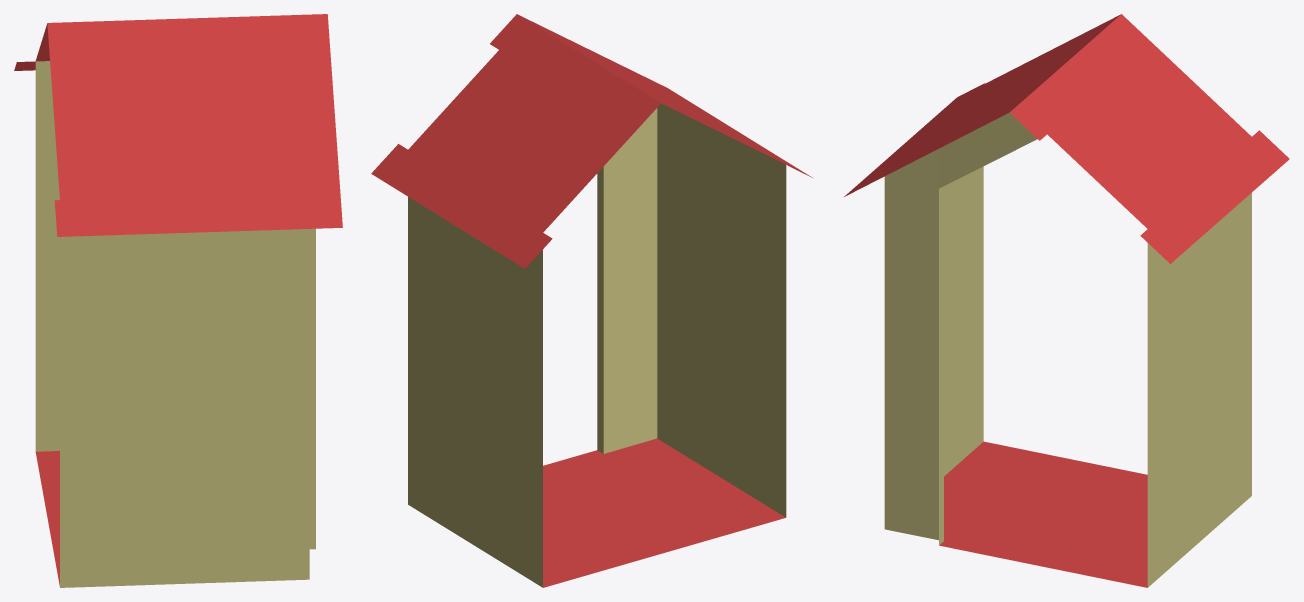
3 renders of one model, left to right at view 1: azimuth 30°, elevation 25°; view 2: azimuth 150°, elevation 25°; view 3: azimuth 270°, elevation 25°, orthographic. The views are drawn at different scales.
Size of the model in its own units: 11.41 by 12.91 by 14.52.
